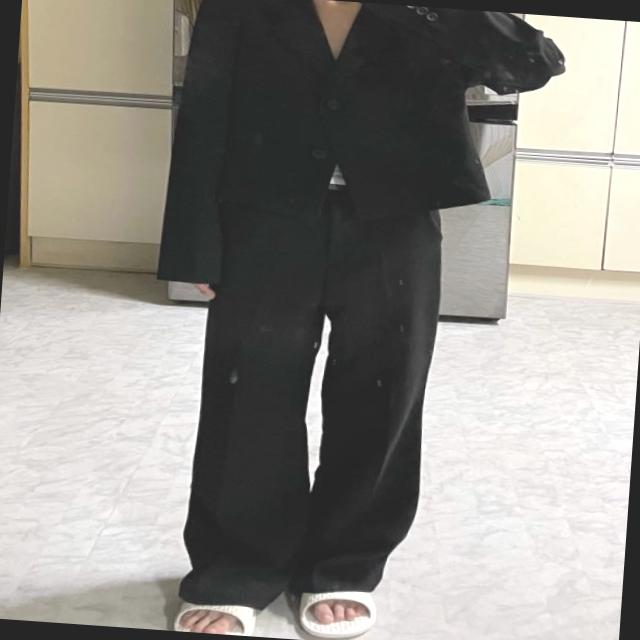blazer: (152, 0, 565, 308), (172, 169, 454, 619)
